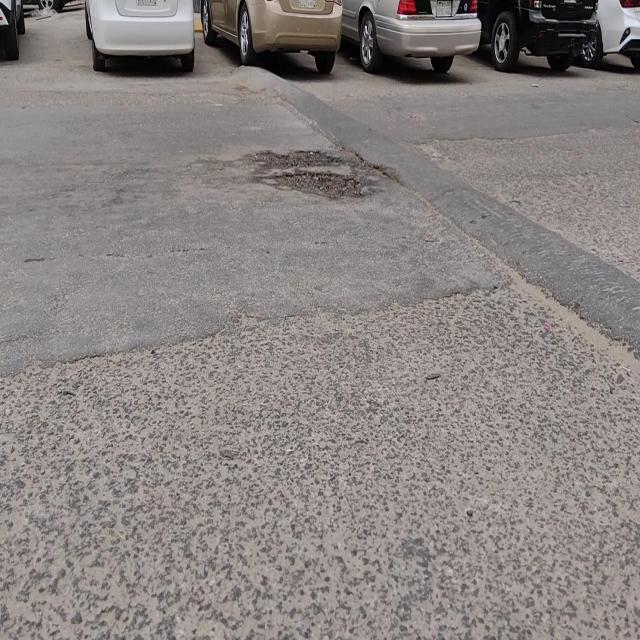Potholes: (252, 148, 362, 200)
